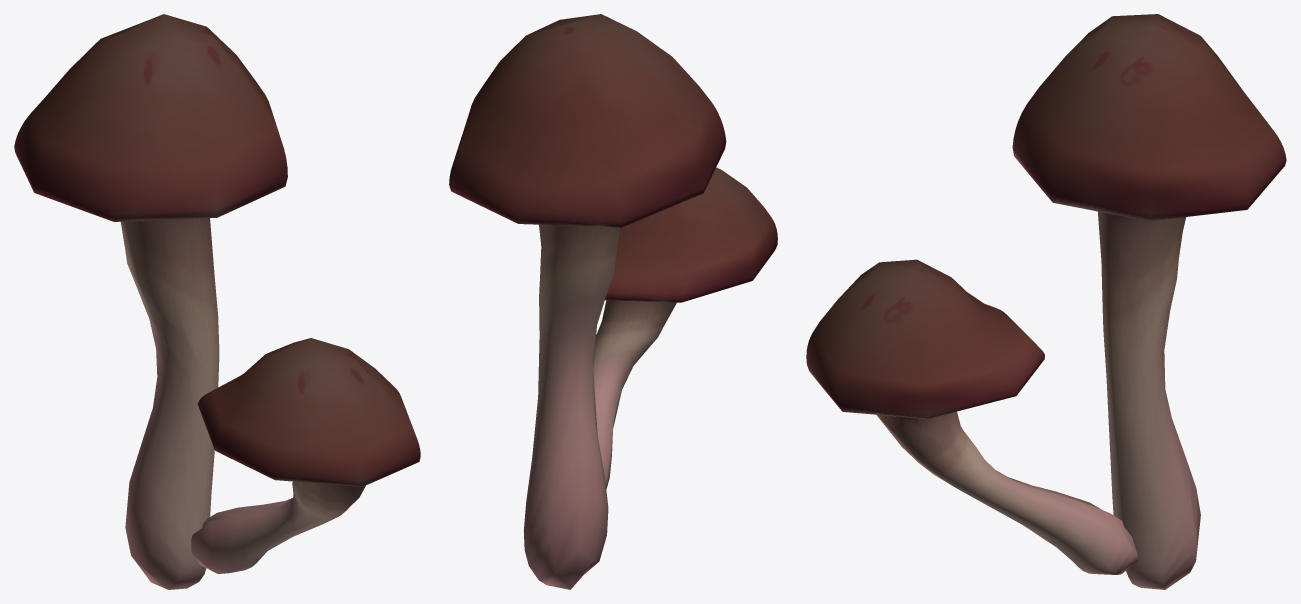
The model's file is Shroom003.glb.
The picture shows the model from 3 angles, left to right: view 1: azimuth 30°, elevation 25°; view 2: azimuth 150°, elevation 25°; view 3: azimuth 270°, elevation 25°; orthographic projection. The views are drawn at different scales.
Visible parts, largest first — view 1: Mushroom01.003; view 2: Mushroom01.003; view 3: Mushroom01.003.
Part boxes in pixels (<box>): Mushroom01.003: <box>14,14,420,589</box>; Mushroom01.003: <box>449,14,777,589</box>; Mushroom01.003: <box>806,14,1286,589</box>.
Size of the model in its own units: 0.0808 by 0.1722 by 0.1349.
Materials: 1 (1 with a texture image).
